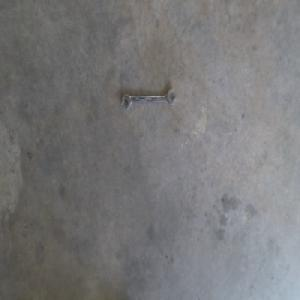Wrench: (121, 89, 176, 110)
